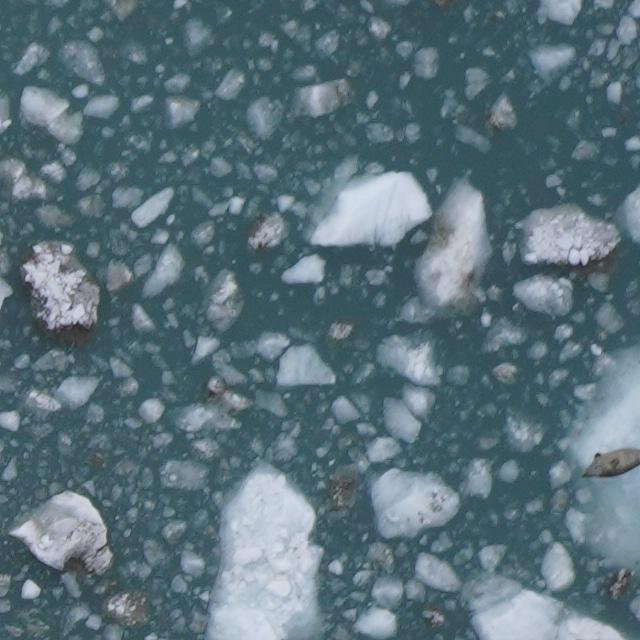seal: (575, 443, 640, 482)
